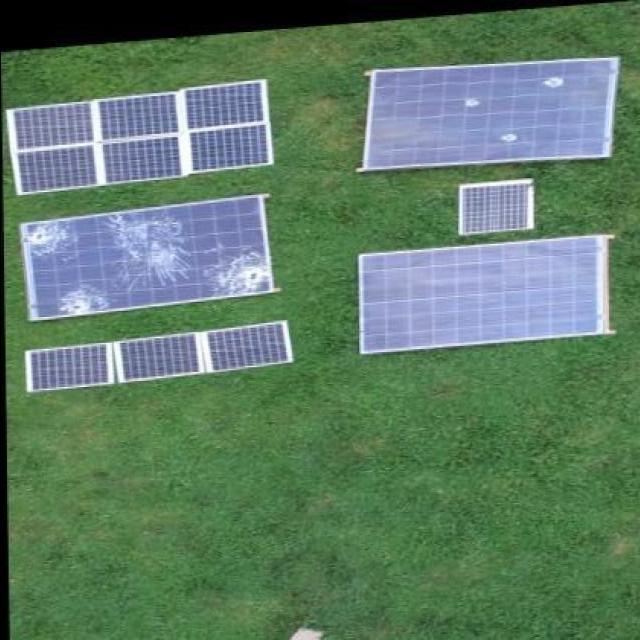cracked: (13, 194, 284, 322)
soiled: (352, 55, 623, 174)
